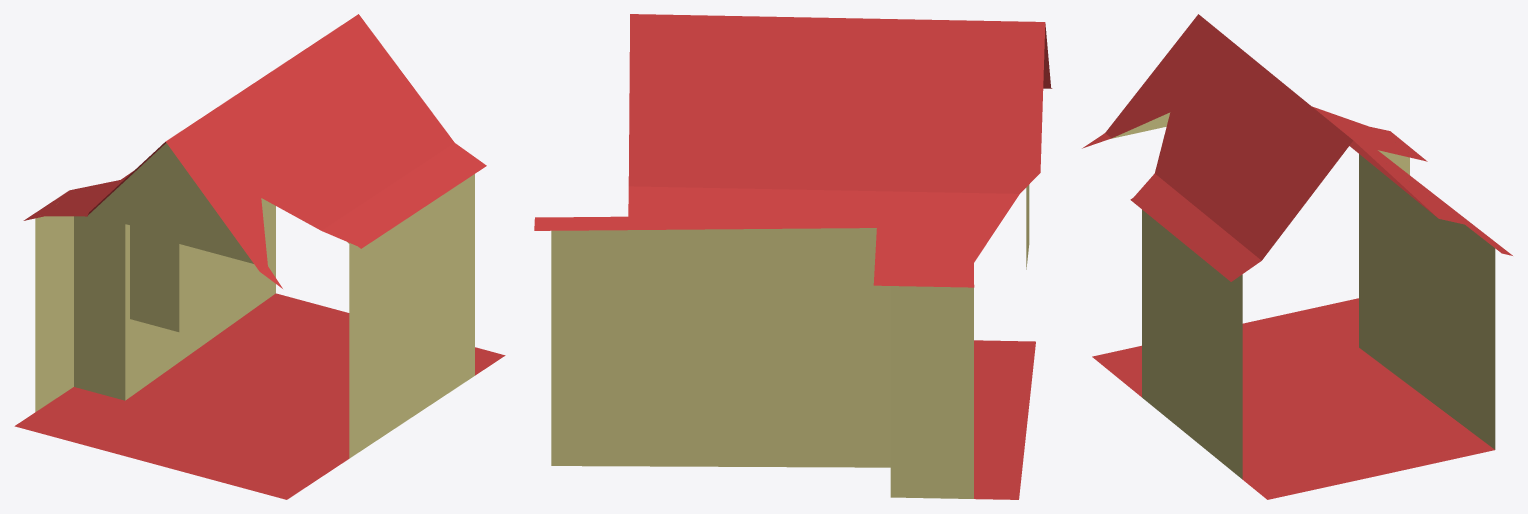
3 views of the same model, side by side, from view 1: azimuth 30°, elevation 25°; view 2: azimuth 150°, elevation 25°; view 3: azimuth 270°, elevation 25° (orthographic). The views are drawn at different scales.
Bounding box in the file's own units: 18.04 × 16.27 × 13.
